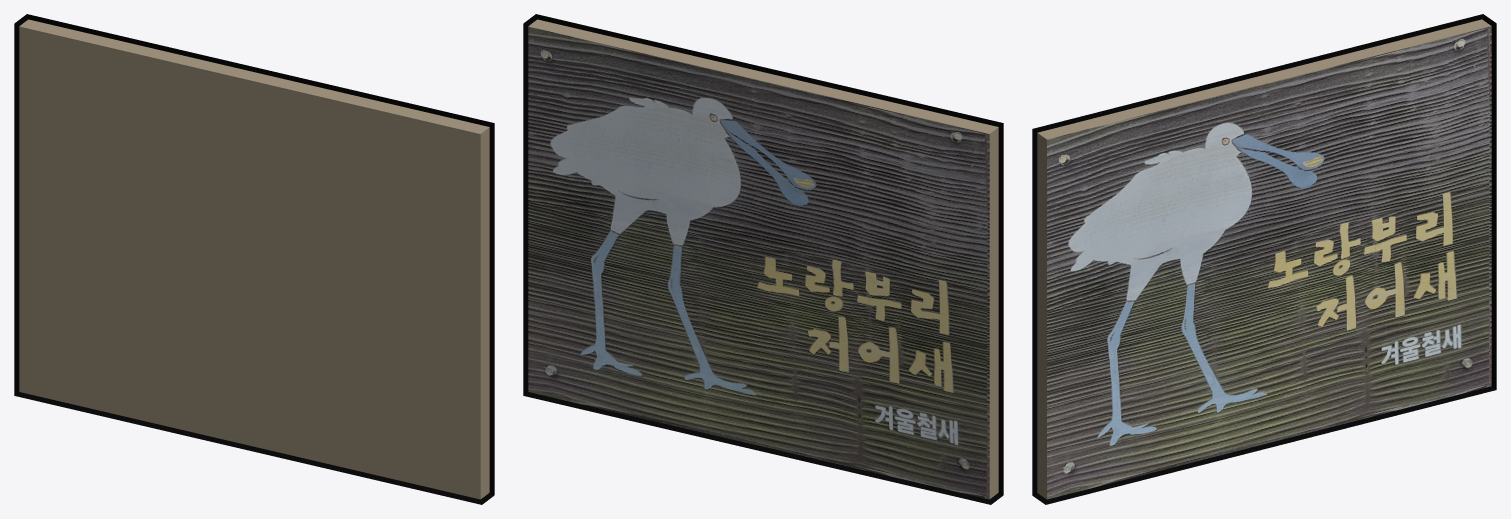
Rendered from jer.glb.
3 renders of one model, left to right at view 1: azimuth 30°, elevation 25°; view 2: azimuth 210°, elevation 25°; view 3: azimuth 270°, elevation 25°, orthographic.
Visible parts, largest first — view 1: Cube.011; view 2: Cube.011; view 3: Cube.011.
Part boxes in pixels (x1,y1,x2,y2): Cube.011: (14, 14, 494, 504); Cube.011: (523, 14, 1003, 504); Cube.011: (1032, 14, 1496, 504).
Size of the model in its own units: 0.4798 by 0.6596 by 0.7572.
3 materials, 1 textured.
